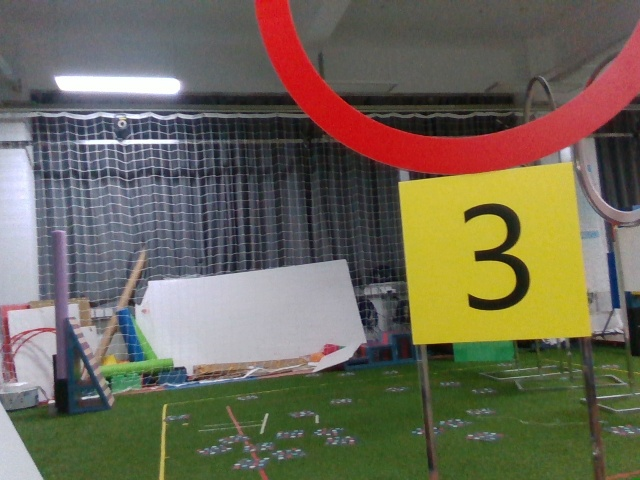target: (421, 177, 579, 336)
